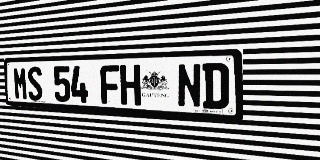4: (70, 66, 88, 103)
5: (53, 66, 71, 102)
D: (202, 63, 229, 110)
F: (100, 65, 120, 105)
H: (120, 64, 141, 105)
M: (13, 67, 28, 100)
N: (177, 63, 202, 108)
S: (27, 66, 43, 101)
